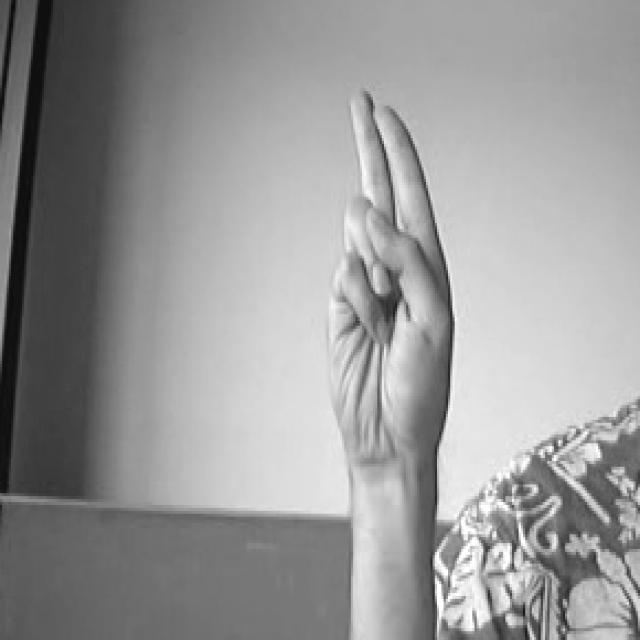U: (262, 49, 495, 494)
